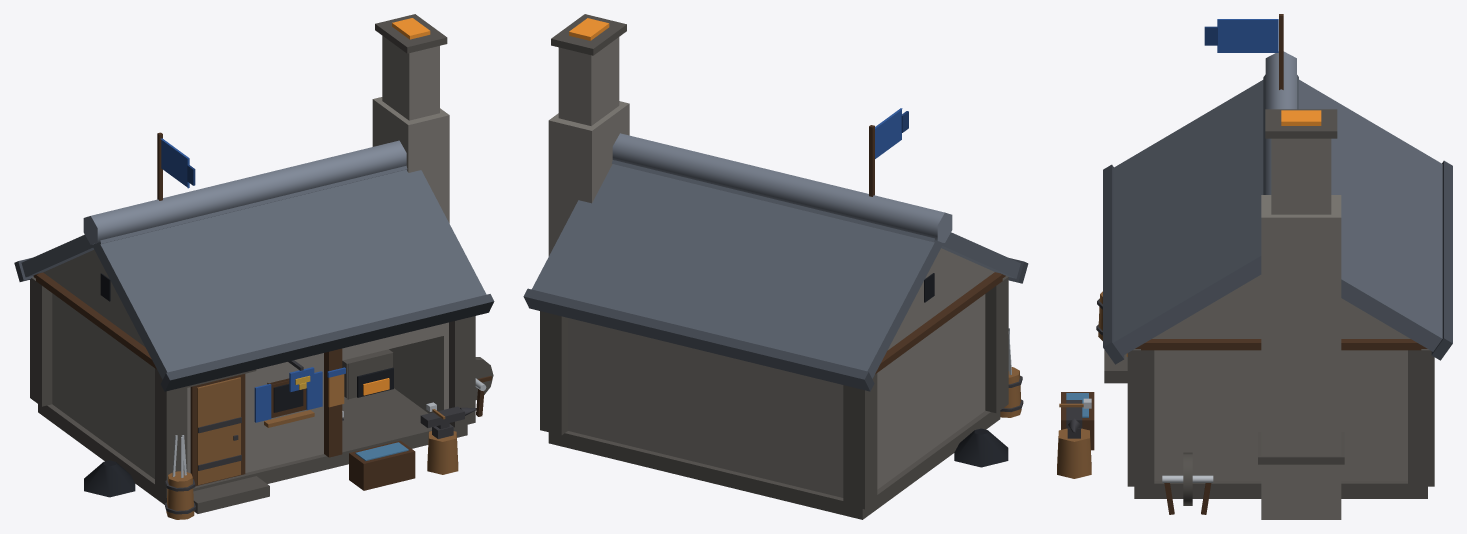
Rendered from smithy.glb.
3 renders of one model, left to right at view 1: azimuth 30°, elevation 25°; view 2: azimuth 150°, elevation 25°; view 3: azimuth 270°, elevation 25°, orthographic. The views are drawn at different scales.
Visible parts, largest first — view 1: smithy; view 2: smithy; view 3: smithy.
Boxes of the visible parts, <box> form: smithy: <box>14,14,494,519</box>; smithy: <box>523,14,1028,519</box>; smithy: <box>1057,14,1452,519</box>.
Size of the model in its own units: 7.65 by 6.49 by 5.93.
Materials: 1 (1 with a texture image).
